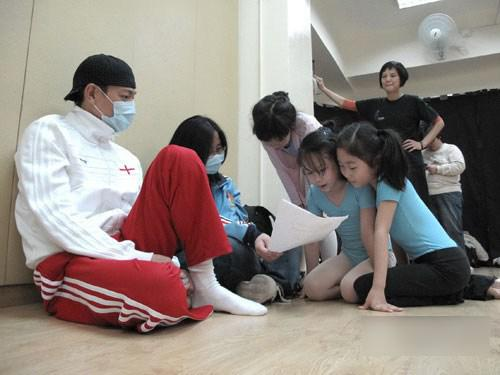NONE: (303, 159, 337, 191), (338, 155, 368, 190), (261, 128, 294, 152), (381, 70, 404, 93)
OK: (103, 86, 137, 131), (201, 142, 229, 176)
